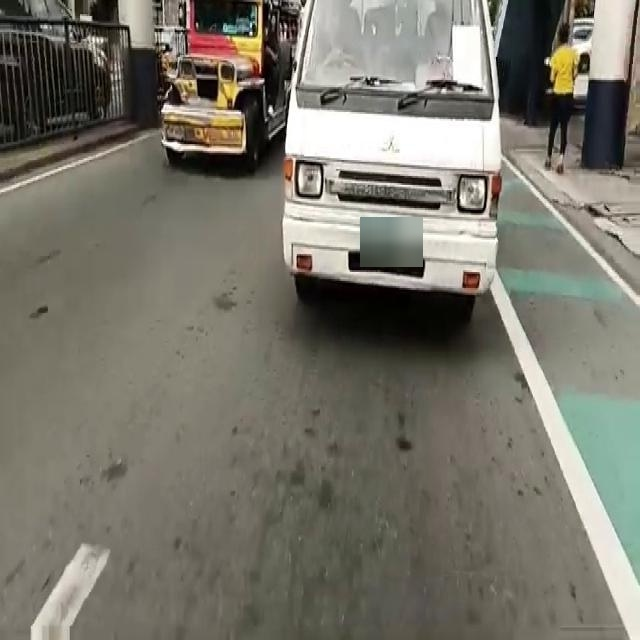car: (281, 2, 510, 330)
jeepney: (153, 6, 303, 186)
